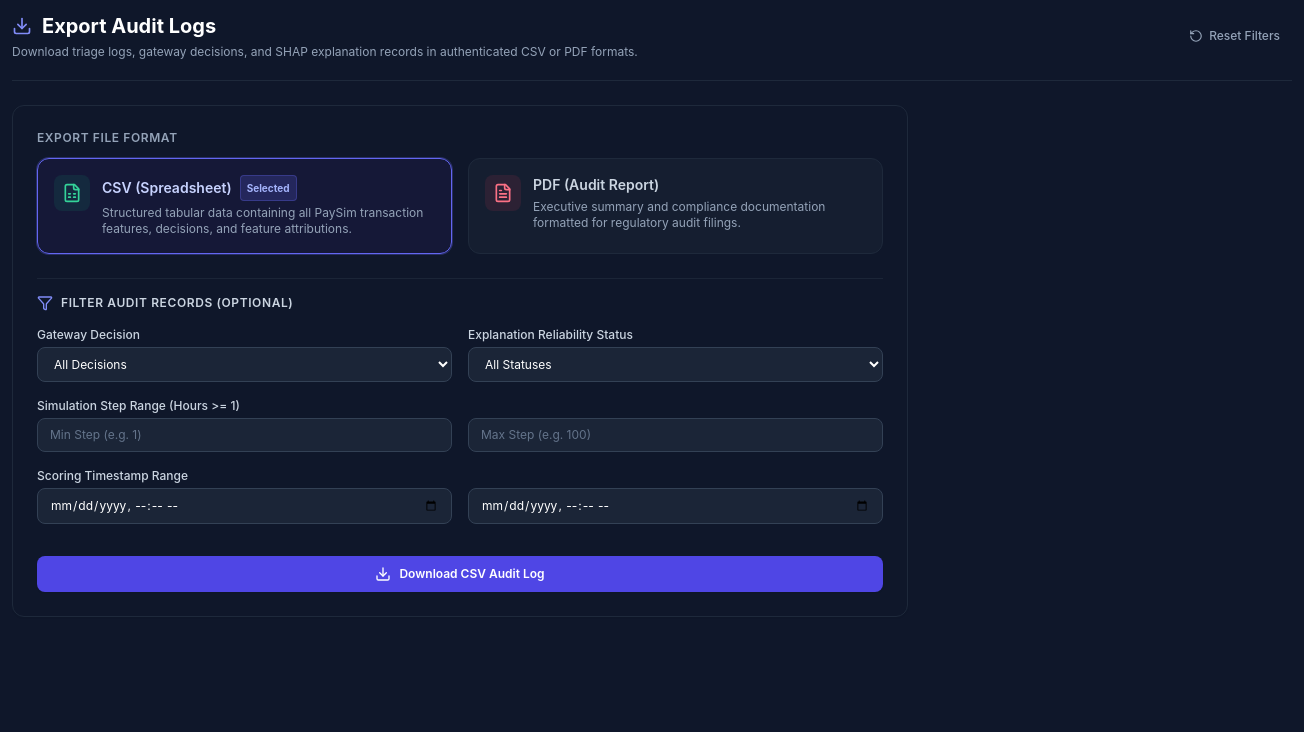
Test case: ExportView Page › switches format between CSV and PDF
Click the radio button with test id "format-option-pdf": coordinates (676, 206) [468,158,883,254]
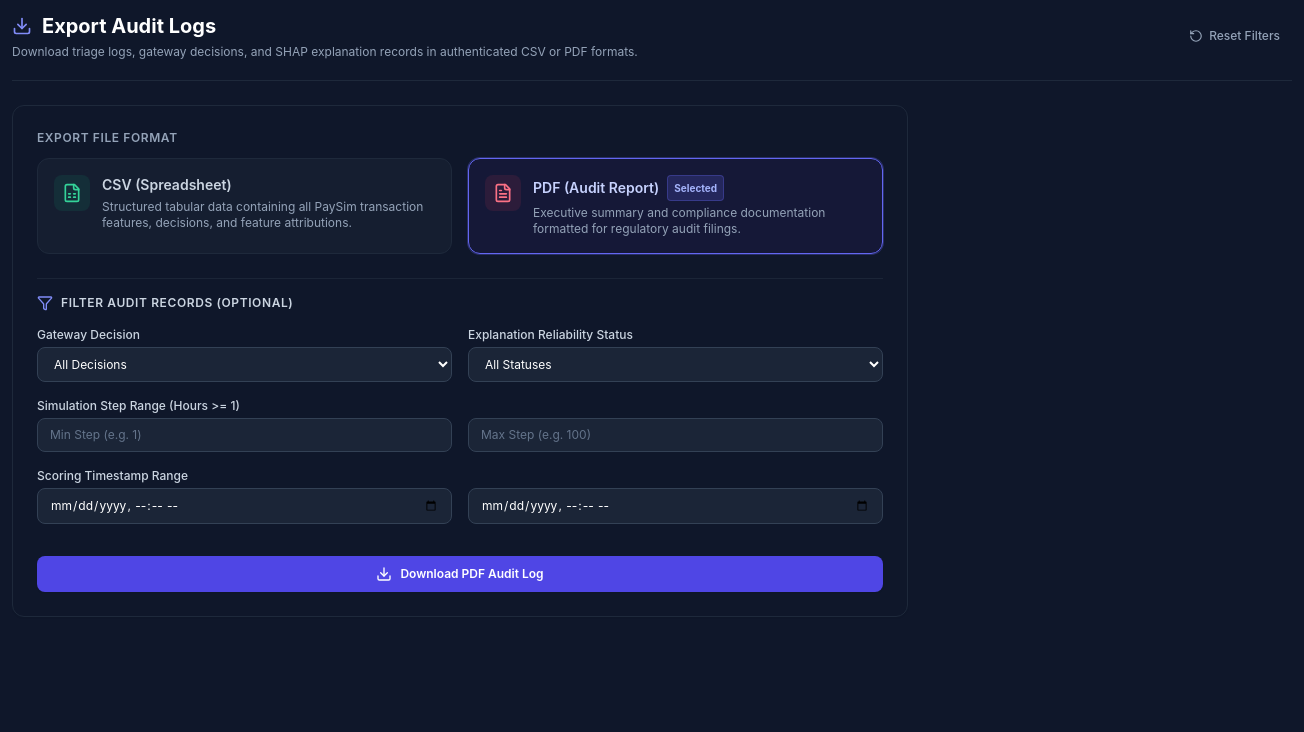
Check: the radio button with test id "format-option-pdf" shows "Selected", box [674,182,717,194]
Check: the button with test id "download-export-button" reads "Download PDF Audit Log", box [37,556,883,592]
